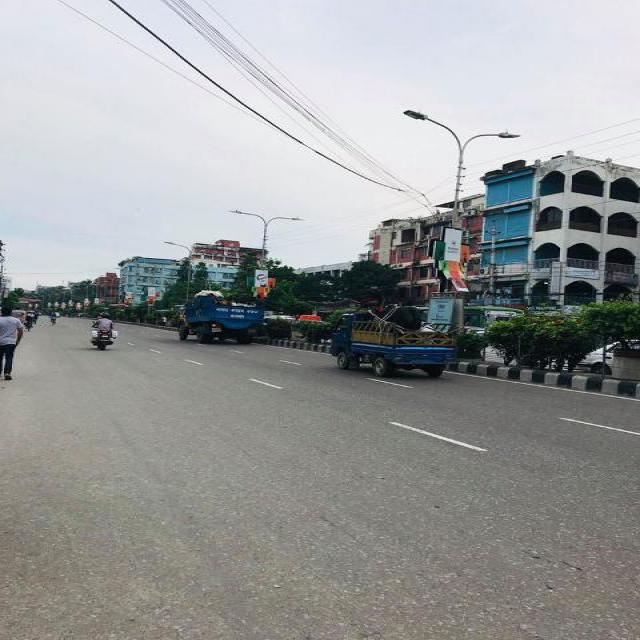bike: (88, 312, 120, 353)
vehicle: (323, 305, 460, 384), (173, 289, 266, 345)
